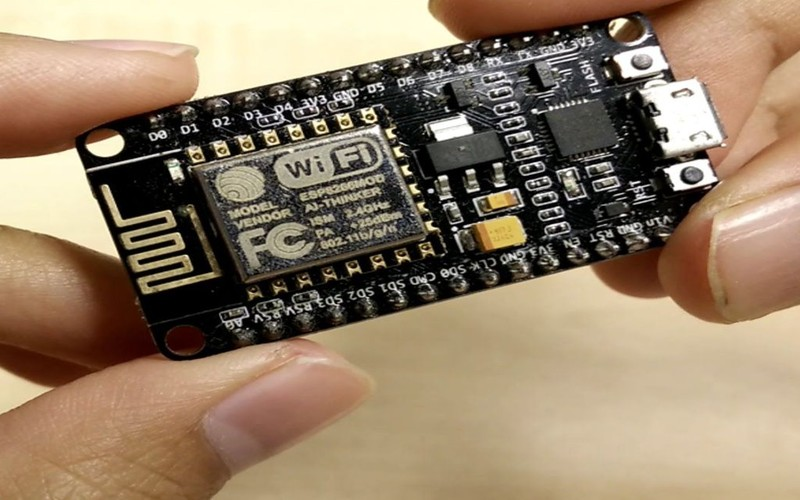IoT Sensor: (70, 7, 732, 385)
